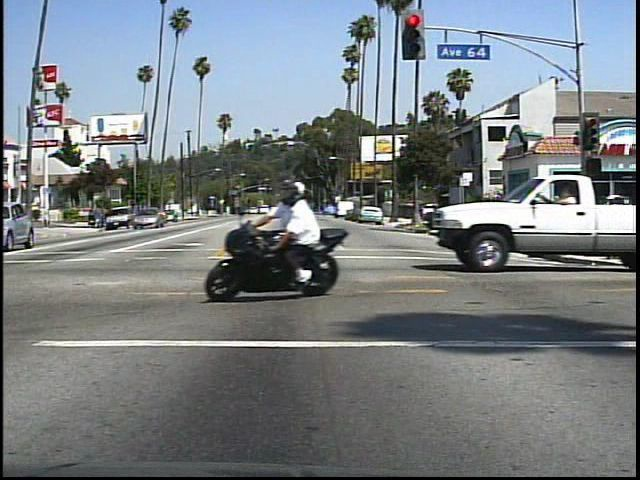person: (267, 177, 342, 293), (544, 192, 572, 245)
